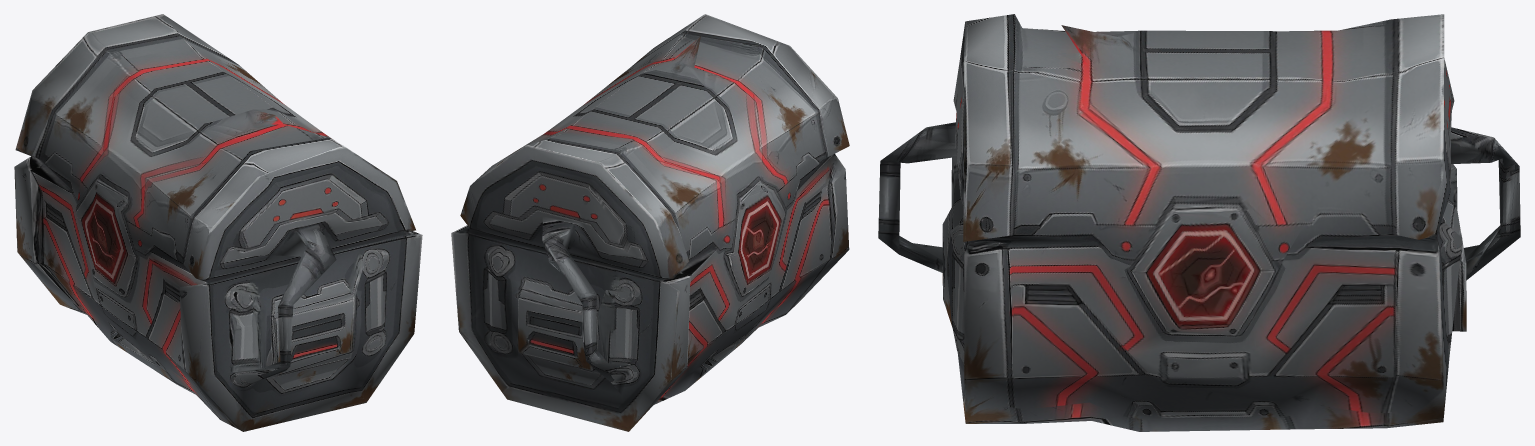
The model's file is Cofre1.glb.
3 renders of one model, left to right at view 1: azimuth 30°, elevation 25°; view 2: azimuth 150°, elevation 25°; view 3: azimuth 270°, elevation 25°, orthographic. The views are drawn at different scales.
Parts seen in each view (by area): view 1: tripo_node_e83f61a1-270c-42c3-b67f-8ad9b326761f; view 2: tripo_node_e83f61a1-270c-42c3-b67f-8ad9b326761f; view 3: tripo_node_e83f61a1-270c-42c3-b67f-8ad9b326761f.
Part boxes in pixels (box(x1,y1,x2,y2)): tripo_node_e83f61a1-270c-42c3-b67f-8ad9b326761f: box(14, 14, 422, 431); tripo_node_e83f61a1-270c-42c3-b67f-8ad9b326761f: box(451, 14, 849, 431); tripo_node_e83f61a1-270c-42c3-b67f-8ad9b326761f: box(878, 14, 1520, 431).
Size of the model in its own units: 0.5405 by 0.6196 by 0.9815.
1 material, 1 textured.
